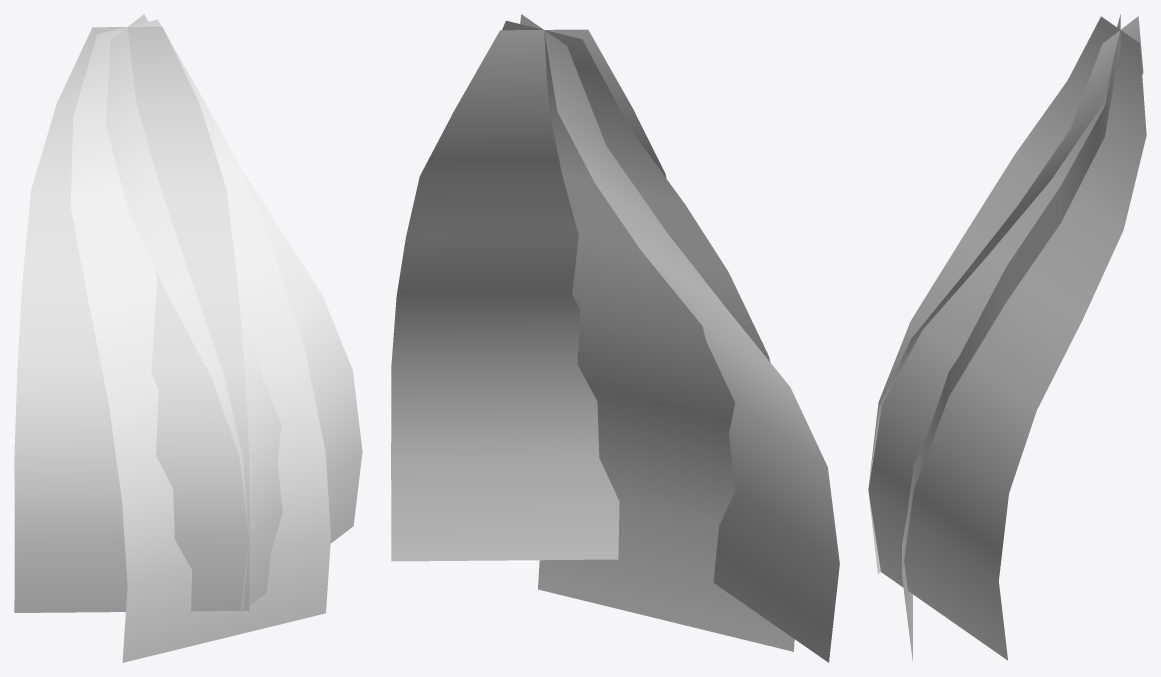
Rendered from energy_spirals.fbx.
The picture shows the model from 3 angles, left to right: view 1: azimuth 30°, elevation 25°; view 2: azimuth 150°, elevation 25°; view 3: azimuth 270°, elevation 25°; orthographic projection. The views are drawn at different scales.
Parts seen in each view (by area): view 1: pPlane3, pPlane1, pPlane2; view 2: pPlane2, pPlane1, pPlane3; view 3: pPlane2, pPlane1, pPlane3.
Boxes of the visible parts, x1,y1,x2,y2 form: pPlane3: (14, 26, 249, 612); pPlane1: (70, 19, 330, 662); pPlane2: (106, 14, 362, 612); pPlane2: (391, 29, 666, 561); pPlane1: (502, 20, 794, 651); pPlane3: (520, 14, 839, 662); pPlane2: (868, 16, 1146, 660); pPlane1: (902, 14, 1120, 661); pPlane3: (868, 16, 1143, 573).
Bounding box in the file's own units: 183 × 268 × 117.
1 material, 1 textured.
